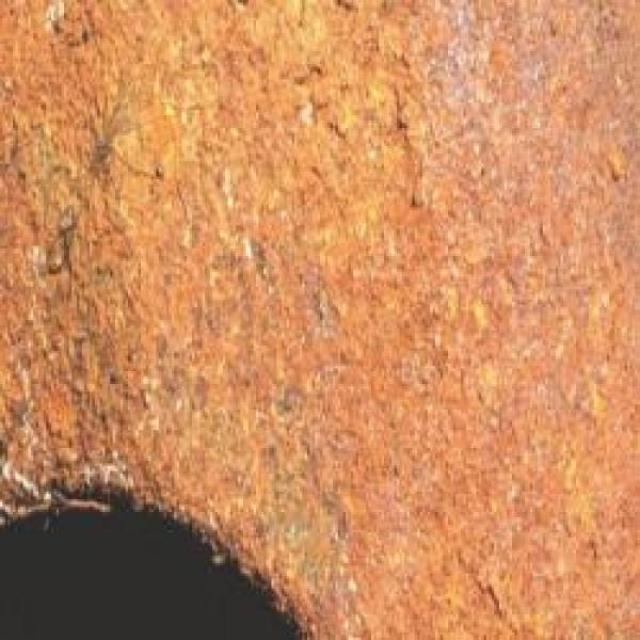corrosion: (0, 11, 183, 487)
dampens: (388, 90, 427, 207), (5, 122, 34, 179), (390, 84, 417, 136), (72, 5, 100, 48), (324, 113, 354, 143)
dampness: (44, 206, 81, 277), (4, 487, 70, 523)
